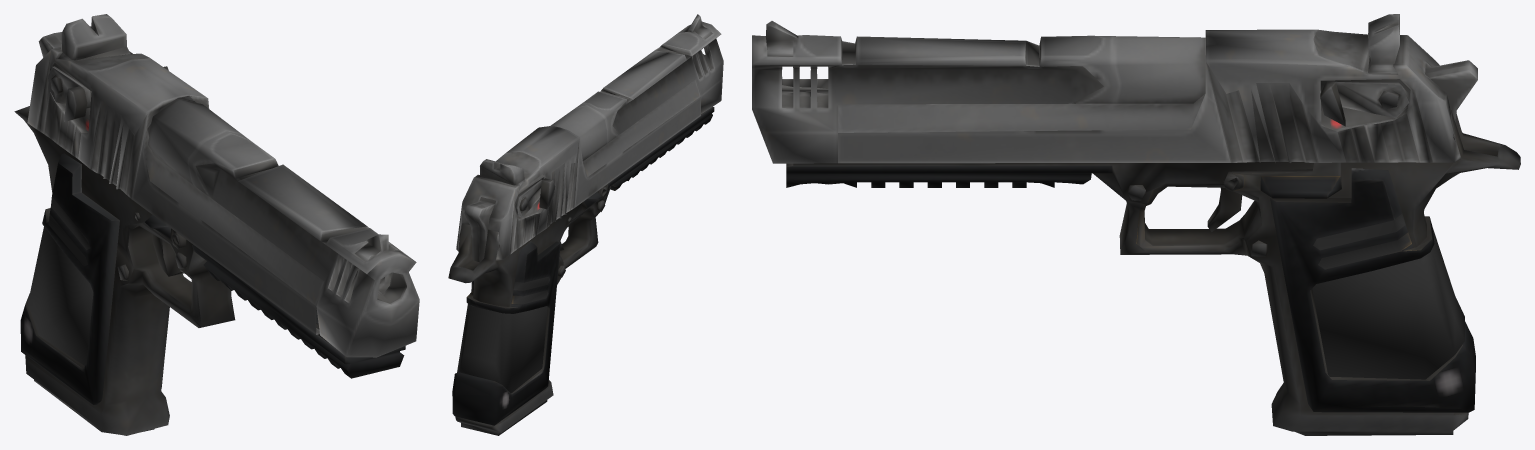
Rendered from Deagle.fbx.
3 views of the same model, side by side, from view 1: azimuth 30°, elevation 25°; view 2: azimuth 150°, elevation 25°; view 3: azimuth 270°, elevation 25° (orthographic). The views are drawn at different scales.
Parts seen in each view (by area): view 1: DE_BODY_MAIN_Low; view 2: DE_BODY_MAIN_Low; view 3: DE_BODY_MAIN_Low.
Boxes of the visible parts, x1,y1,x2,y2 form: DE_BODY_MAIN_Low: (14, 14, 419, 435); DE_BODY_MAIN_Low: (448, 14, 723, 435); DE_BODY_MAIN_Low: (752, 14, 1520, 435).
Size of the model in its own units: 4.02 by 14.93 by 26.13.
